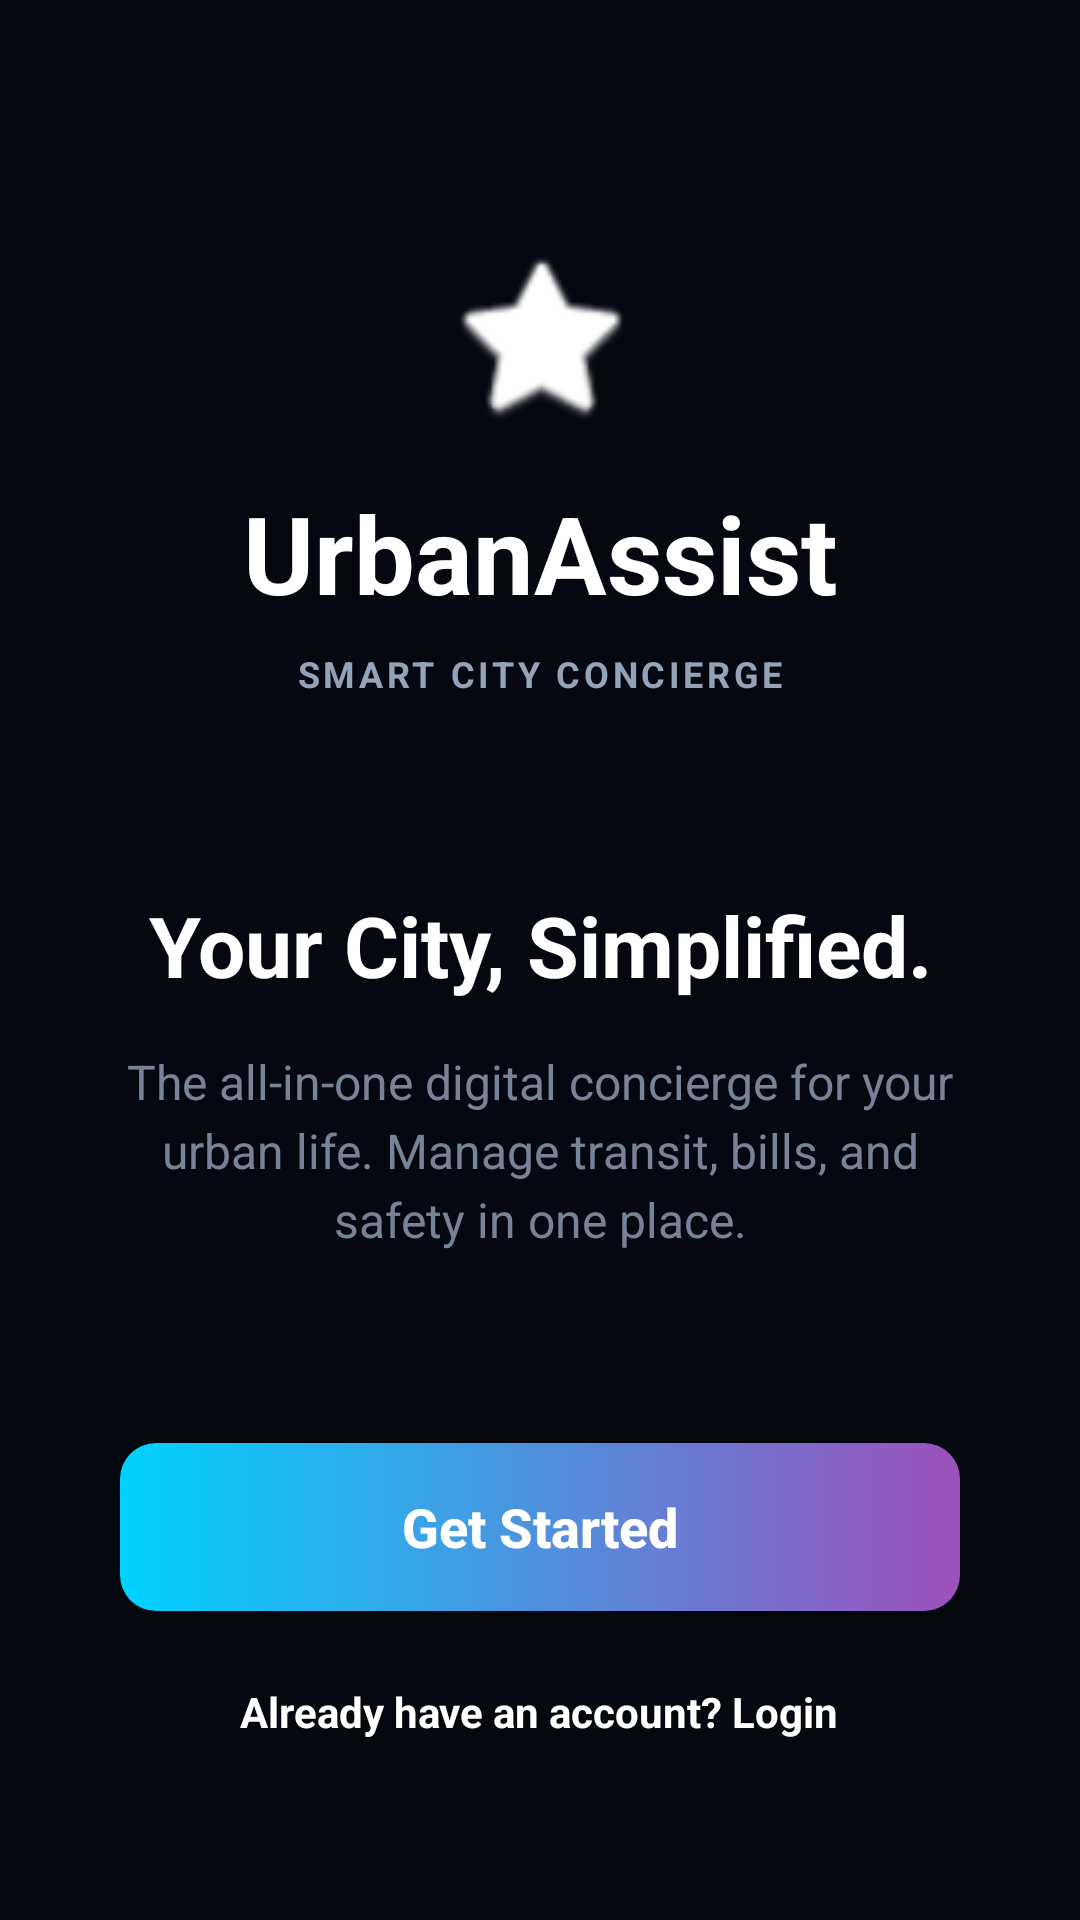

Icon bounding boxes for this 1080x1920 phone screenshot, format [x1, y1, x2, y2]:
star on: [461, 259, 622, 416]
